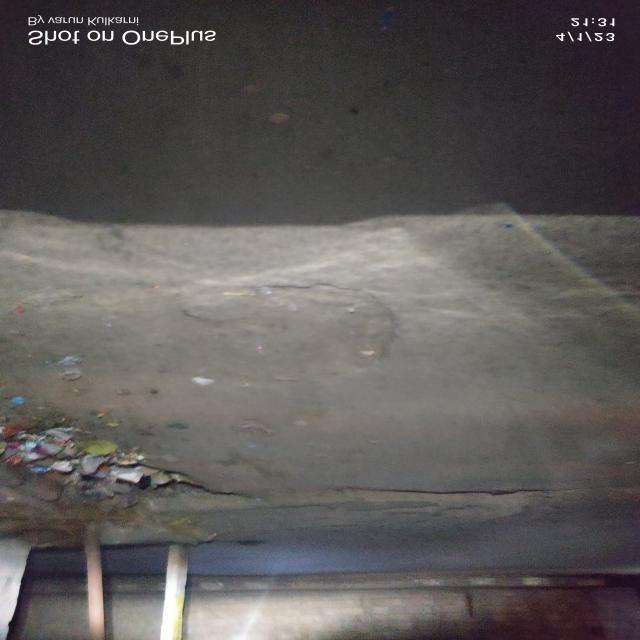potholes: (192, 275, 406, 378)
